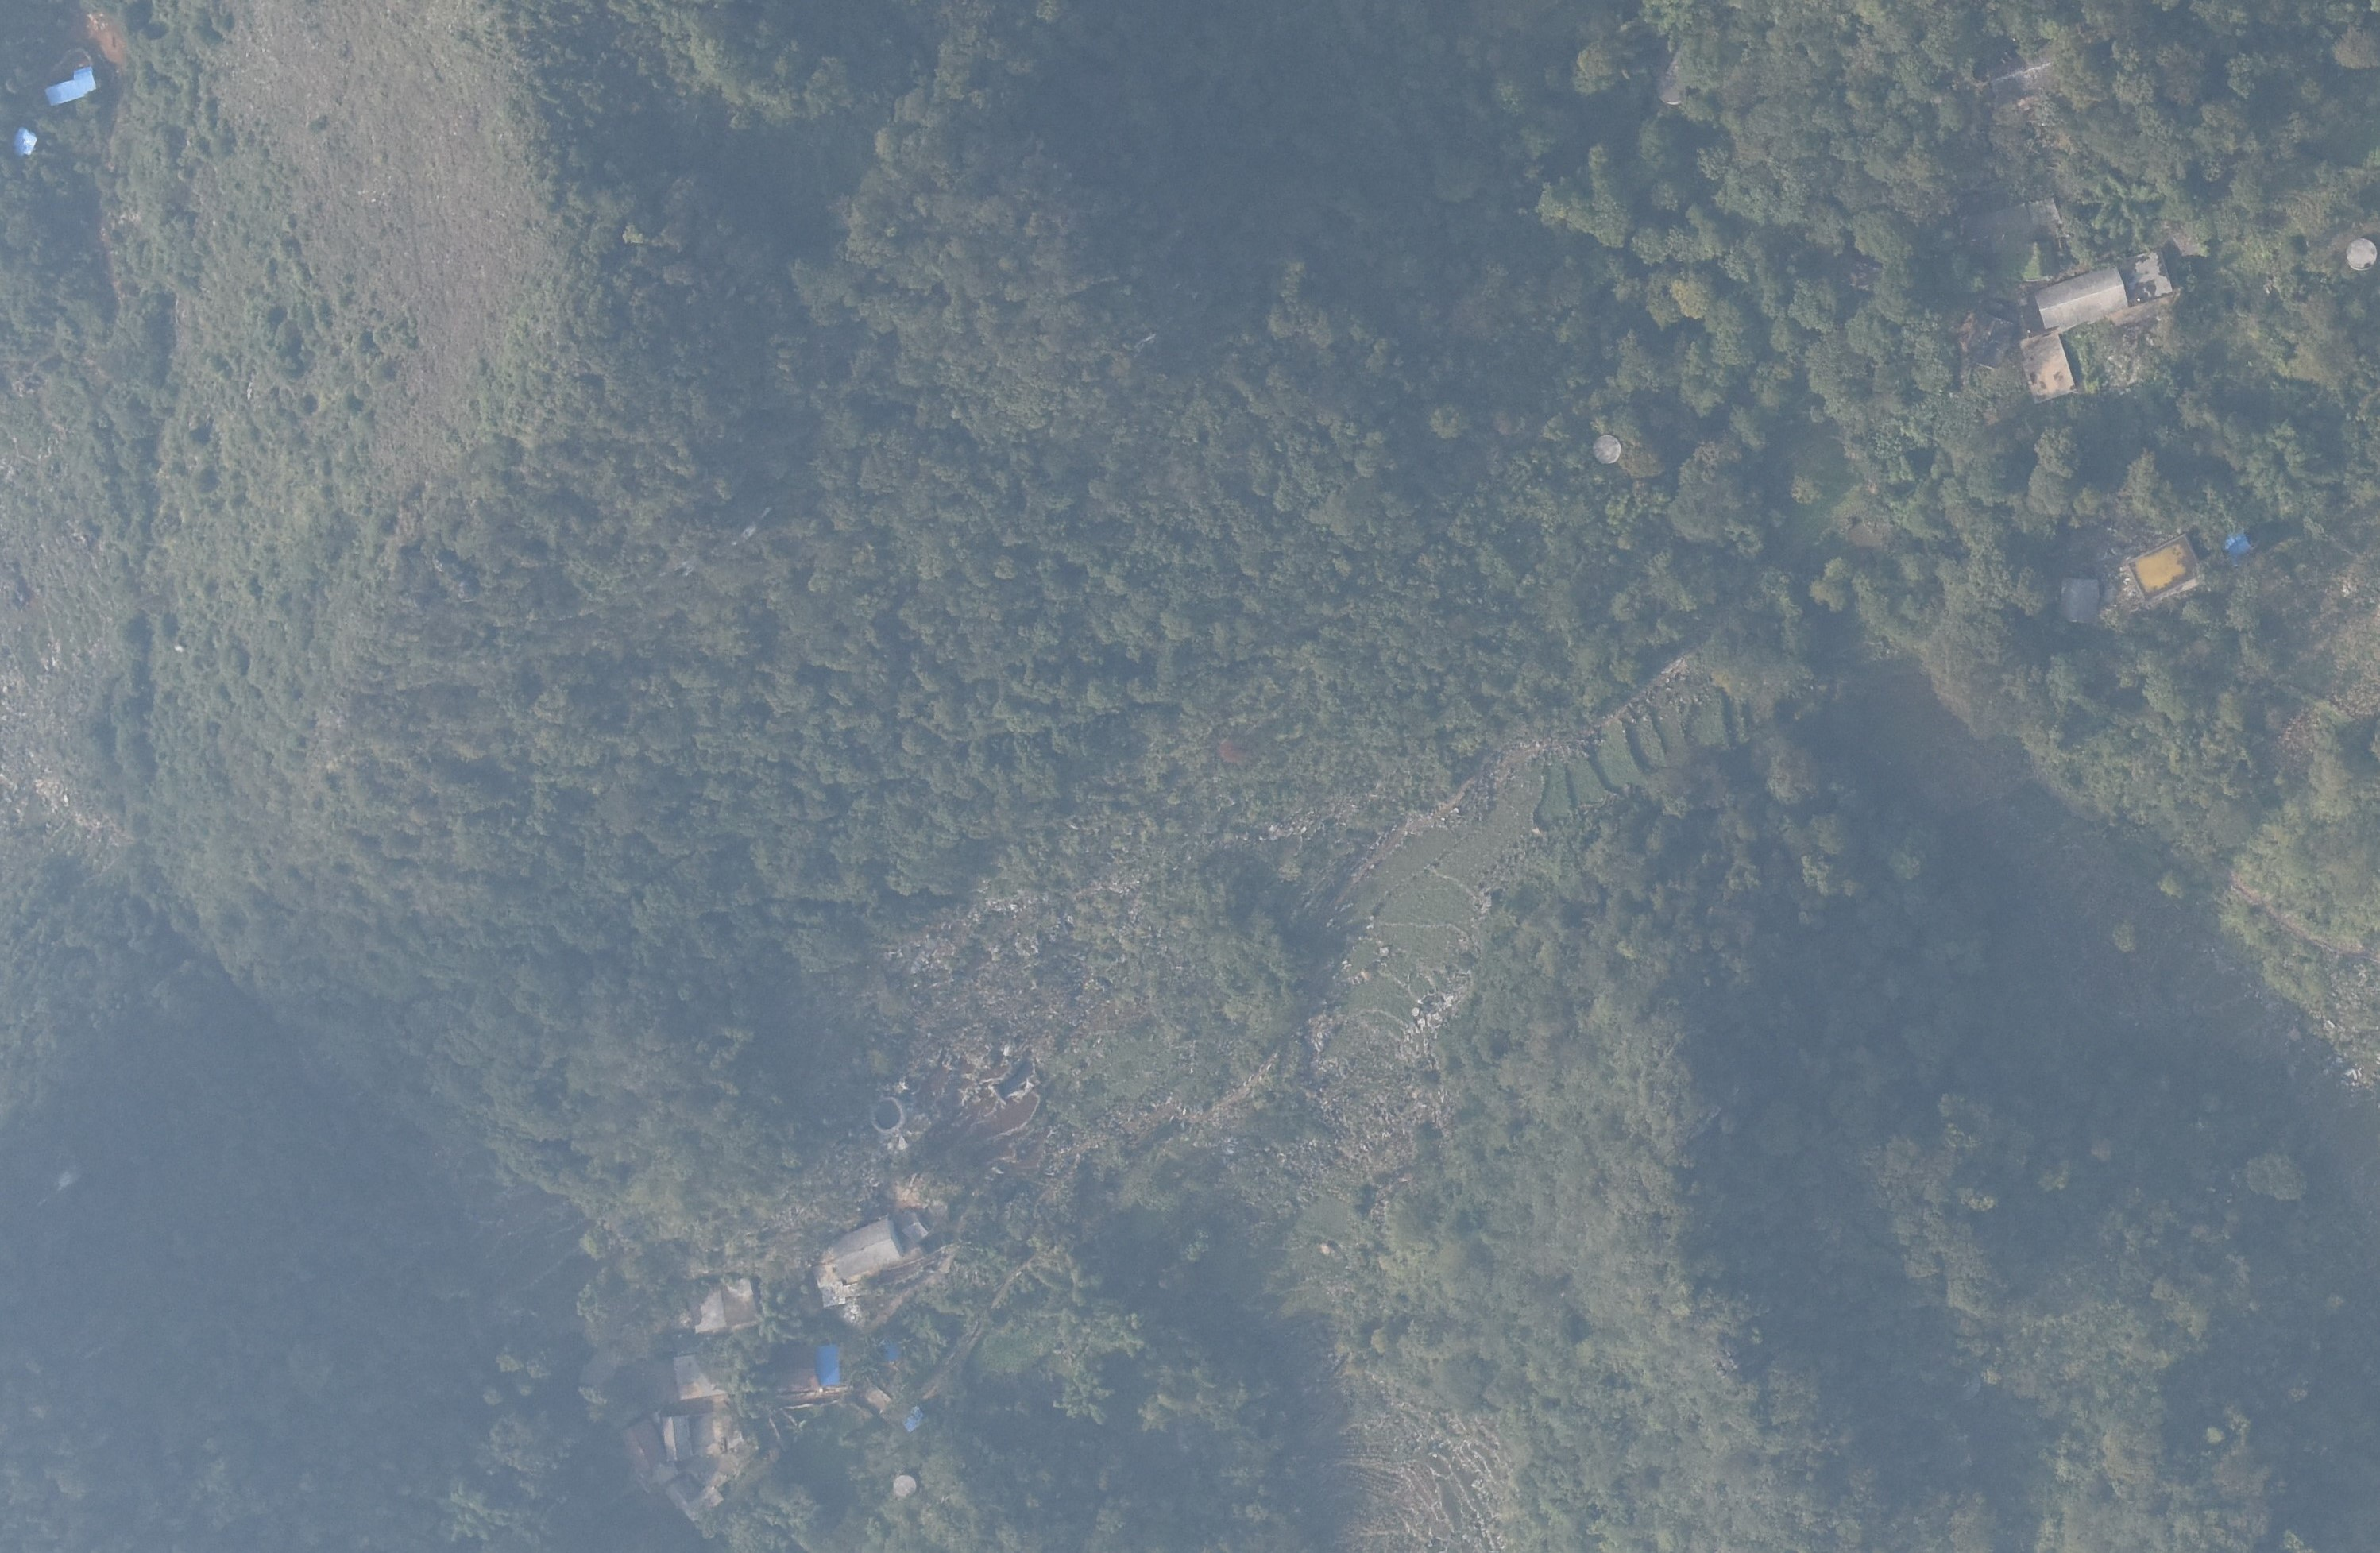building: (2031, 265, 2135, 331), (2127, 534, 2215, 606), (822, 1215, 906, 1284), (2014, 330, 2080, 403), (616, 1418, 678, 1491), (2109, 252, 2179, 304), (666, 1350, 729, 1400), (2057, 571, 2099, 632), (718, 1274, 762, 1331), (656, 1409, 697, 1468), (683, 1279, 727, 1334)
prefabricated-house: (40, 64, 106, 106), (807, 1341, 848, 1392), (10, 125, 42, 161), (2219, 531, 2255, 560), (895, 1404, 925, 1433)
well: (2342, 231, 2378, 278), (1591, 432, 1622, 467), (890, 1471, 921, 1501)
